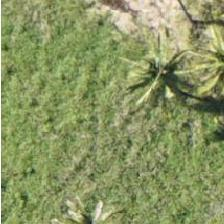Kelapa_Sawit: (107, 40, 197, 130)
